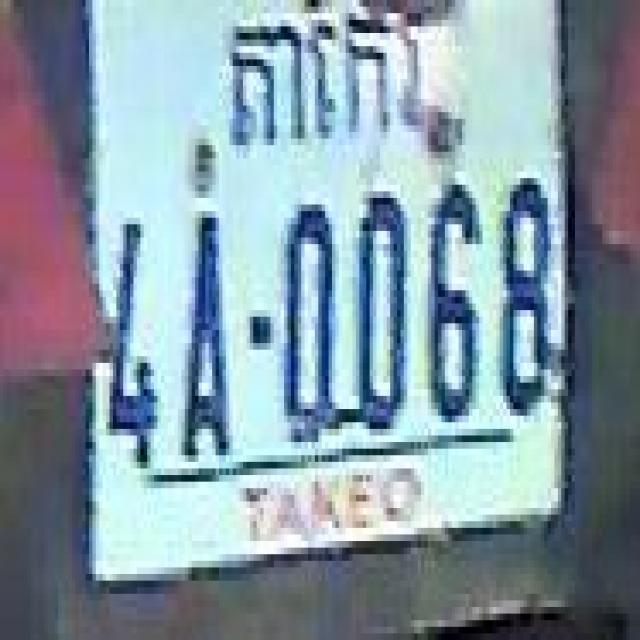Takeo: (226, 7, 446, 155)
